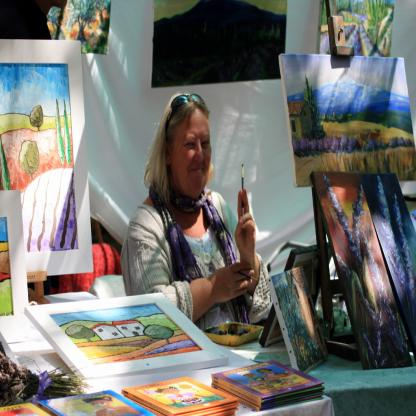book: (0, 358, 327, 416)
